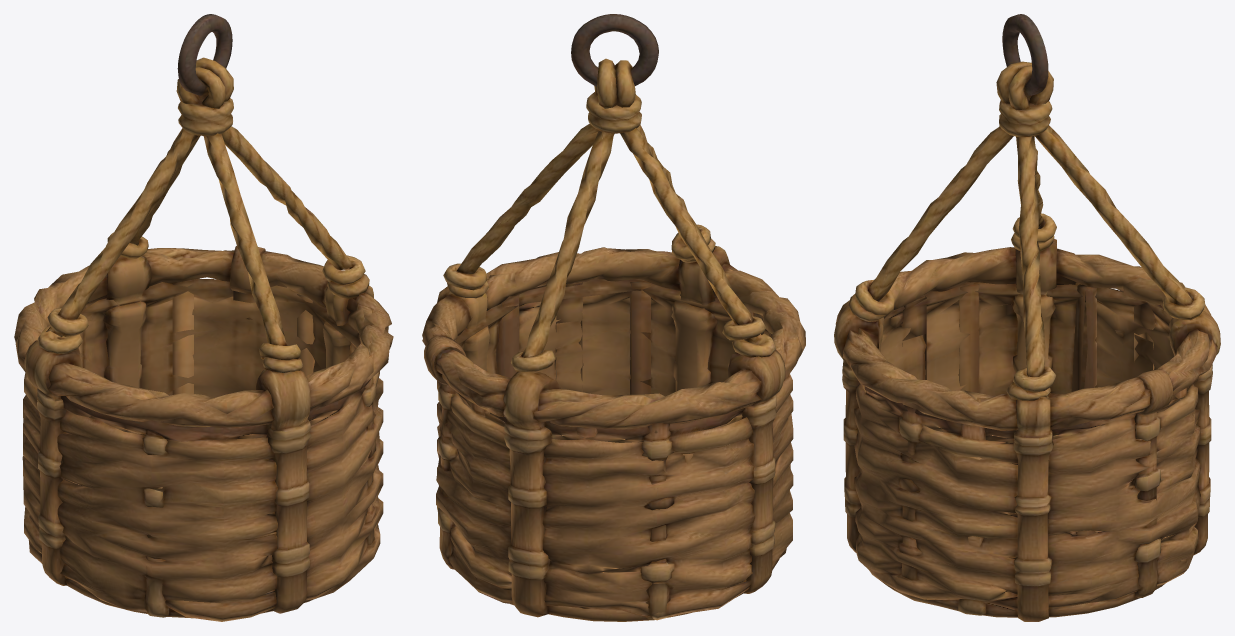
The model's file is basket.glb.
The picture shows the model from 3 angles, left to right: view 1: azimuth 30°, elevation 25°; view 2: azimuth 150°, elevation 25°; view 3: azimuth 270°, elevation 25°; orthographic projection.
Visible parts, largest first — view 1: tripo_node_f7355a1c-68d9-4291-95a0-585d9ef72b7a; view 2: tripo_node_f7355a1c-68d9-4291-95a0-585d9ef72b7a; view 3: tripo_node_f7355a1c-68d9-4291-95a0-585d9ef72b7a.
Part boxes in pixels (x1,y1,x2,y2): tripo_node_f7355a1c-68d9-4291-95a0-585d9ef72b7a: [14, 14, 393, 621]; tripo_node_f7355a1c-68d9-4291-95a0-585d9ef72b7a: [422, 14, 805, 621]; tripo_node_f7355a1c-68d9-4291-95a0-585d9ef72b7a: [834, 14, 1220, 621].
Size of the model in its own units: 0.6538 by 0.9995 by 0.6538.
Materials: 1 (1 with a texture image).
